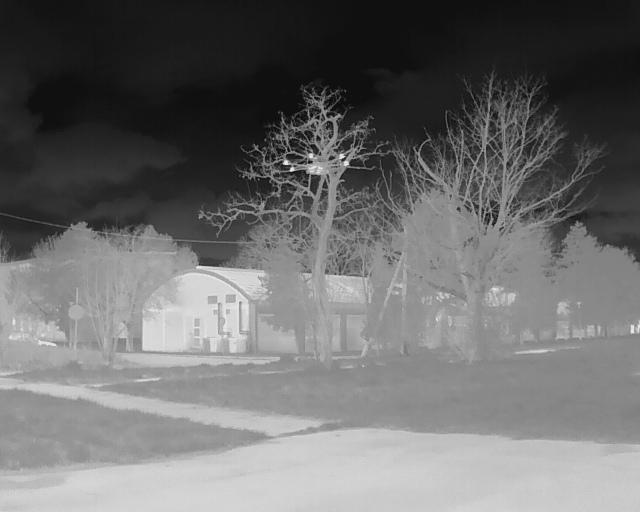drone: (279, 142, 349, 204)
